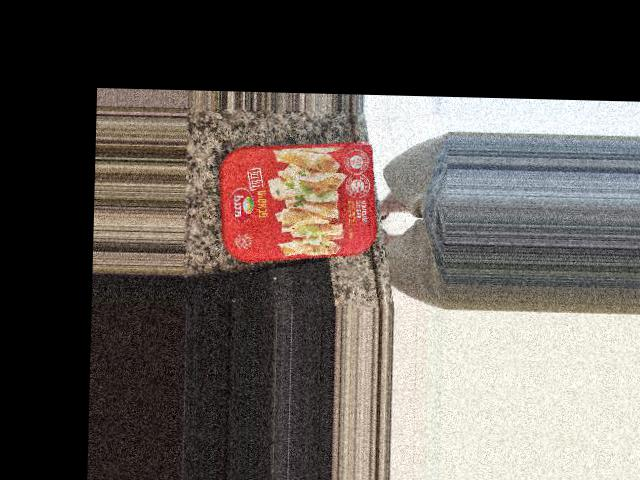cheese: (221, 134, 381, 263)
